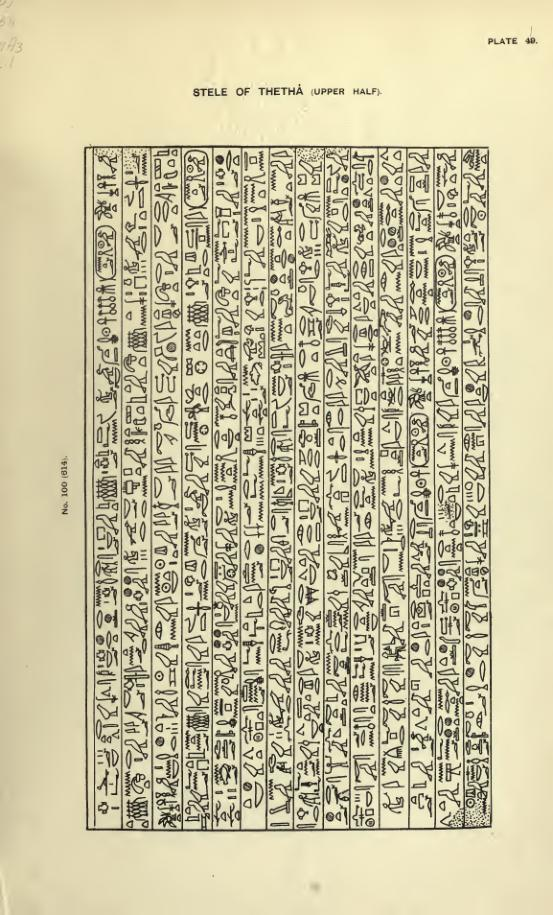circle: (433, 253, 461, 314), (93, 224, 121, 282), (183, 149, 209, 210), (407, 412, 434, 469)
